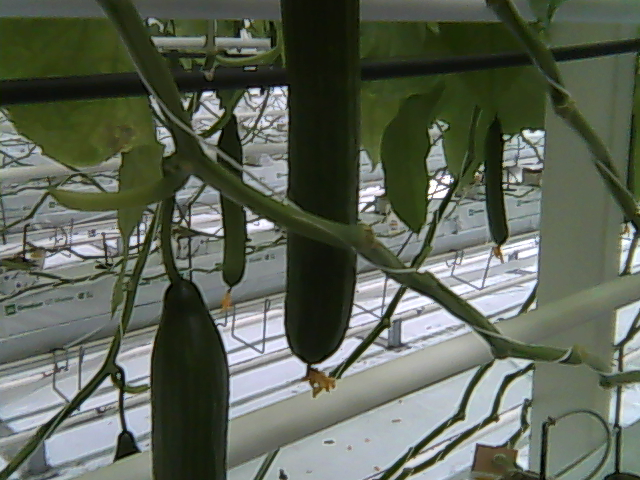concombre: (281, 1, 362, 400), (149, 278, 233, 480)
